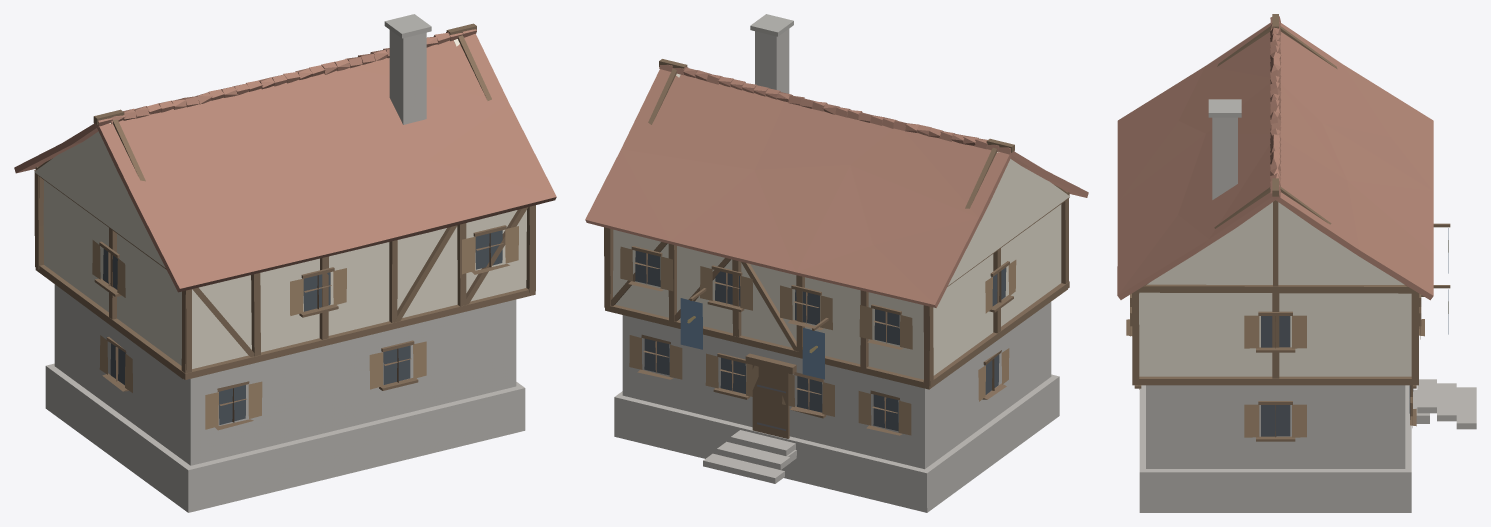
Rendered from vogthaus_lod1.glb.
3 views of the same model, side by side, from view 1: azimuth 30°, elevation 25°; view 2: azimuth 150°, elevation 25°; view 3: azimuth 270°, elevation 25° (orthographic). The views are drawn at different scales.
Parts seen in each view (by area): view 1: vogthaus.001; view 2: vogthaus.001; view 3: vogthaus.001.
Part boxes in pixels (x1=…): vogthaus.001: x1=14, y1=14, x2=556, y2=512; vogthaus.001: x1=585, y1=14, x2=1088, y2=512; vogthaus.001: x1=1117, y1=14, x2=1476, y2=512.
Bounding box in the file's own units: 12.7 × 12.51 × 10.9.
